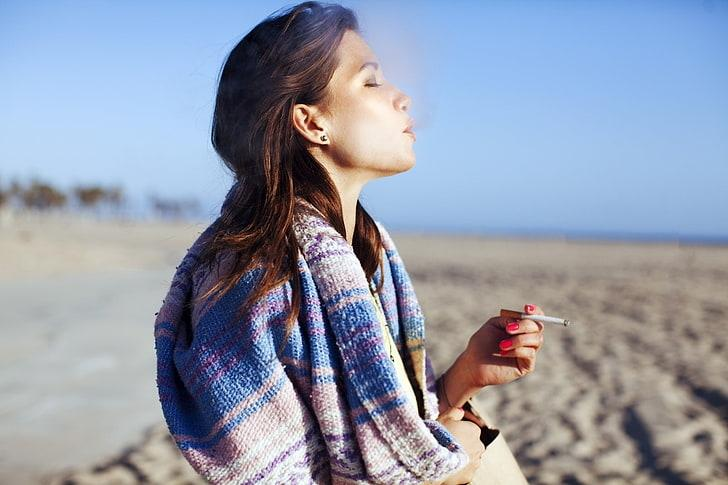cigarette: (497, 305, 575, 329)
